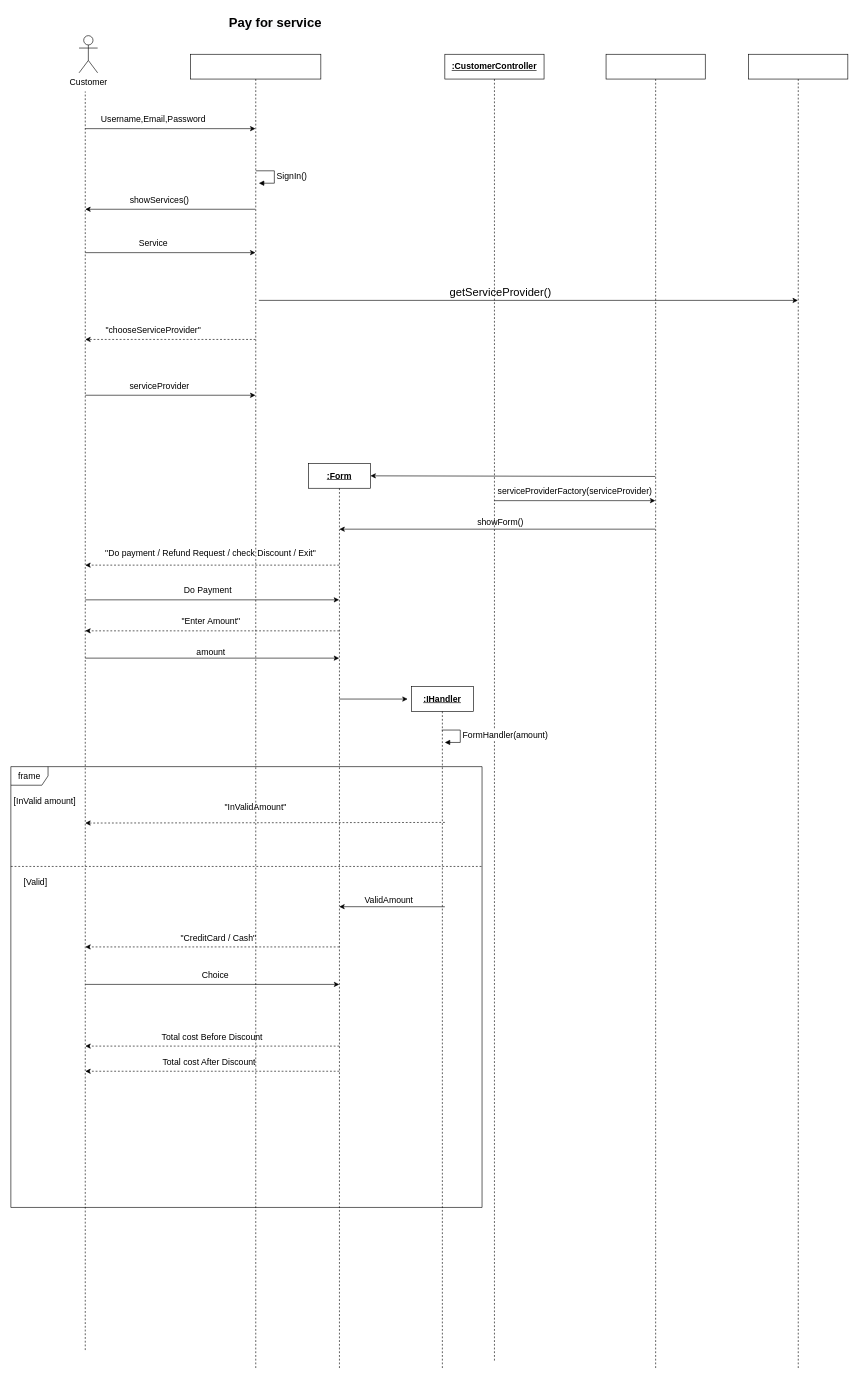
Some shapes in this 859 by 1380 pixel diagram are drawn without their labels. Each missing label, with the box of its shape:
:CustomerView: (190, 54, 321, 1369)
:FawrySystemEntity: (748, 54, 848, 1369)
:ServiceProviderFactory: (605, 54, 705, 1369)
